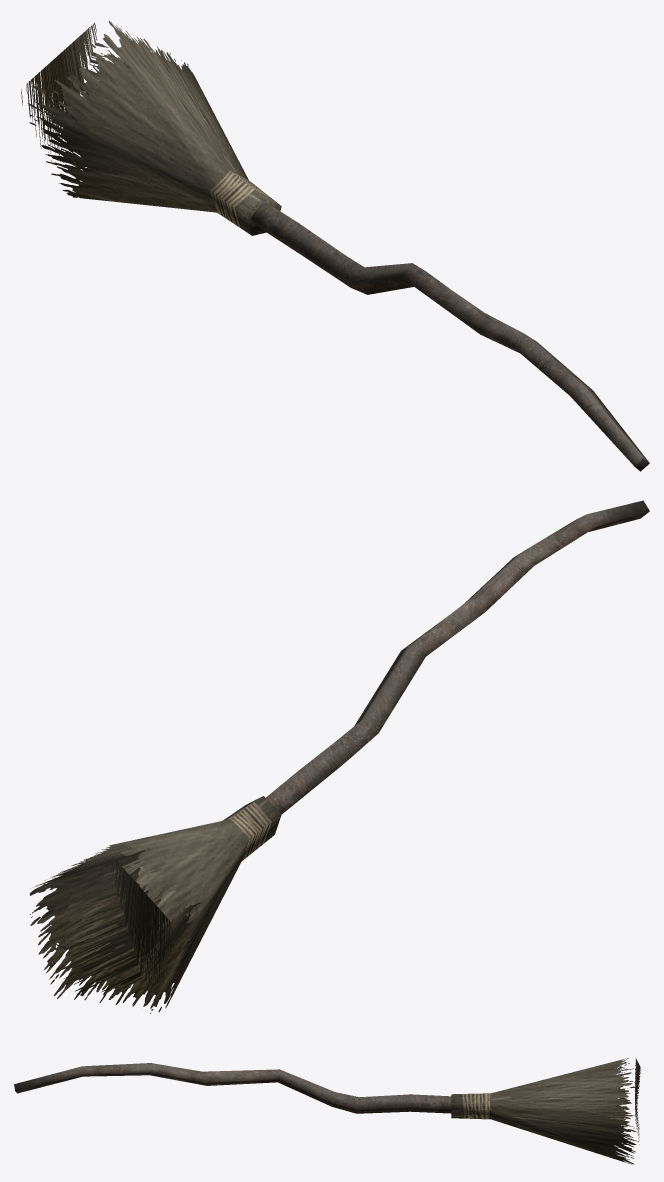
File: Broom.FBX
3 views of the same model, one above another, from view 1: azimuth 30°, elevation 25°; view 2: azimuth 150°, elevation 25°; view 3: azimuth 270°, elevation 25° (orthographic). The views are drawn at different scales.
Visible parts, largest first — view 1: witch_broom; view 2: witch_broom; view 3: witch_broom.
Boxes of the visible parts, x1,y1,x2,y2 form: witch_broom: [21, 21, 649, 471]; witch_broom: [29, 500, 649, 1013]; witch_broom: [14, 1058, 640, 1164].
Size of the model in its own units: 15.77 by 15 by 89.21.
